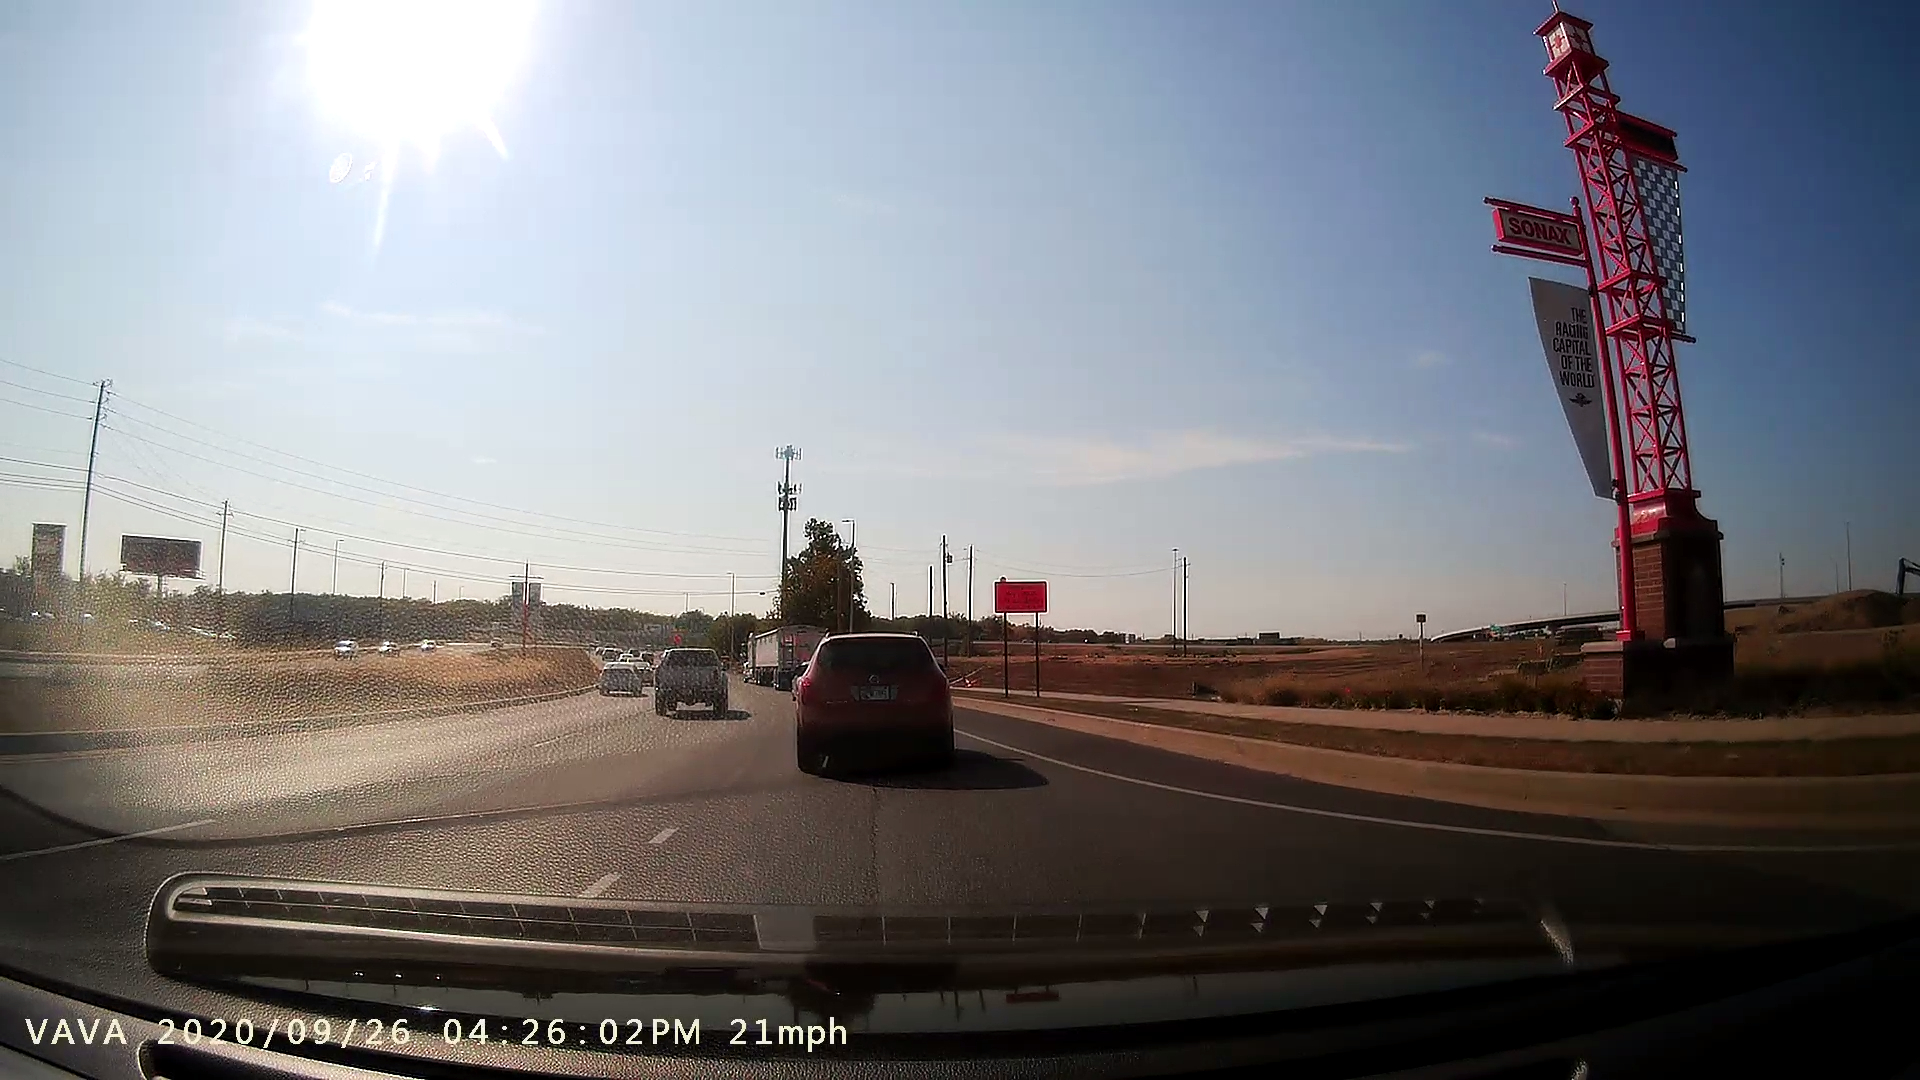temperary_sign: (982, 564, 1063, 708)
